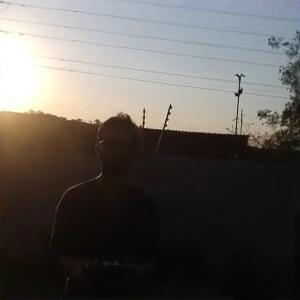follow: (47, 108, 172, 298)
